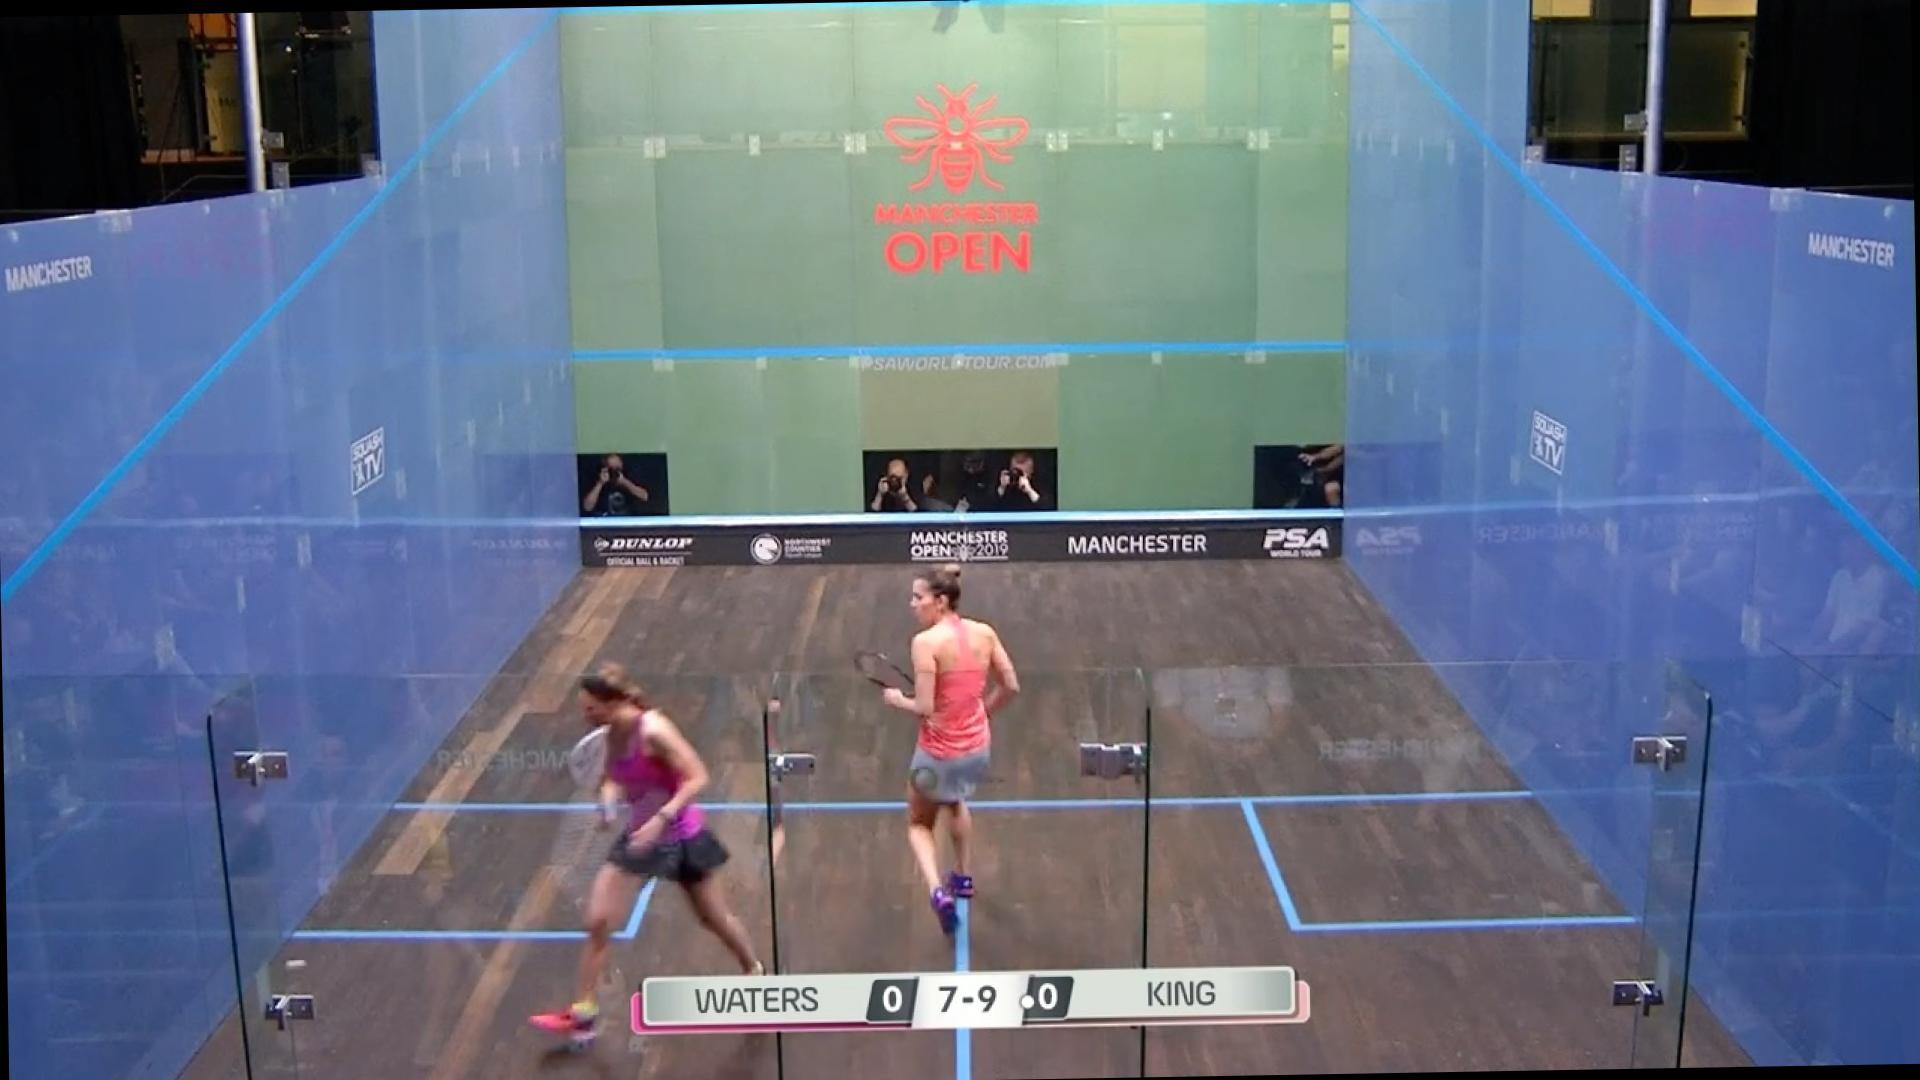Squash-Ball: (258, 931, 320, 985)
